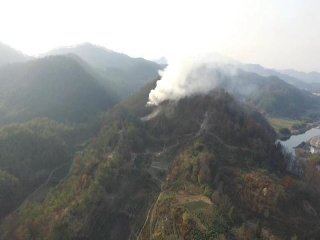smoke: (144, 49, 252, 111)
